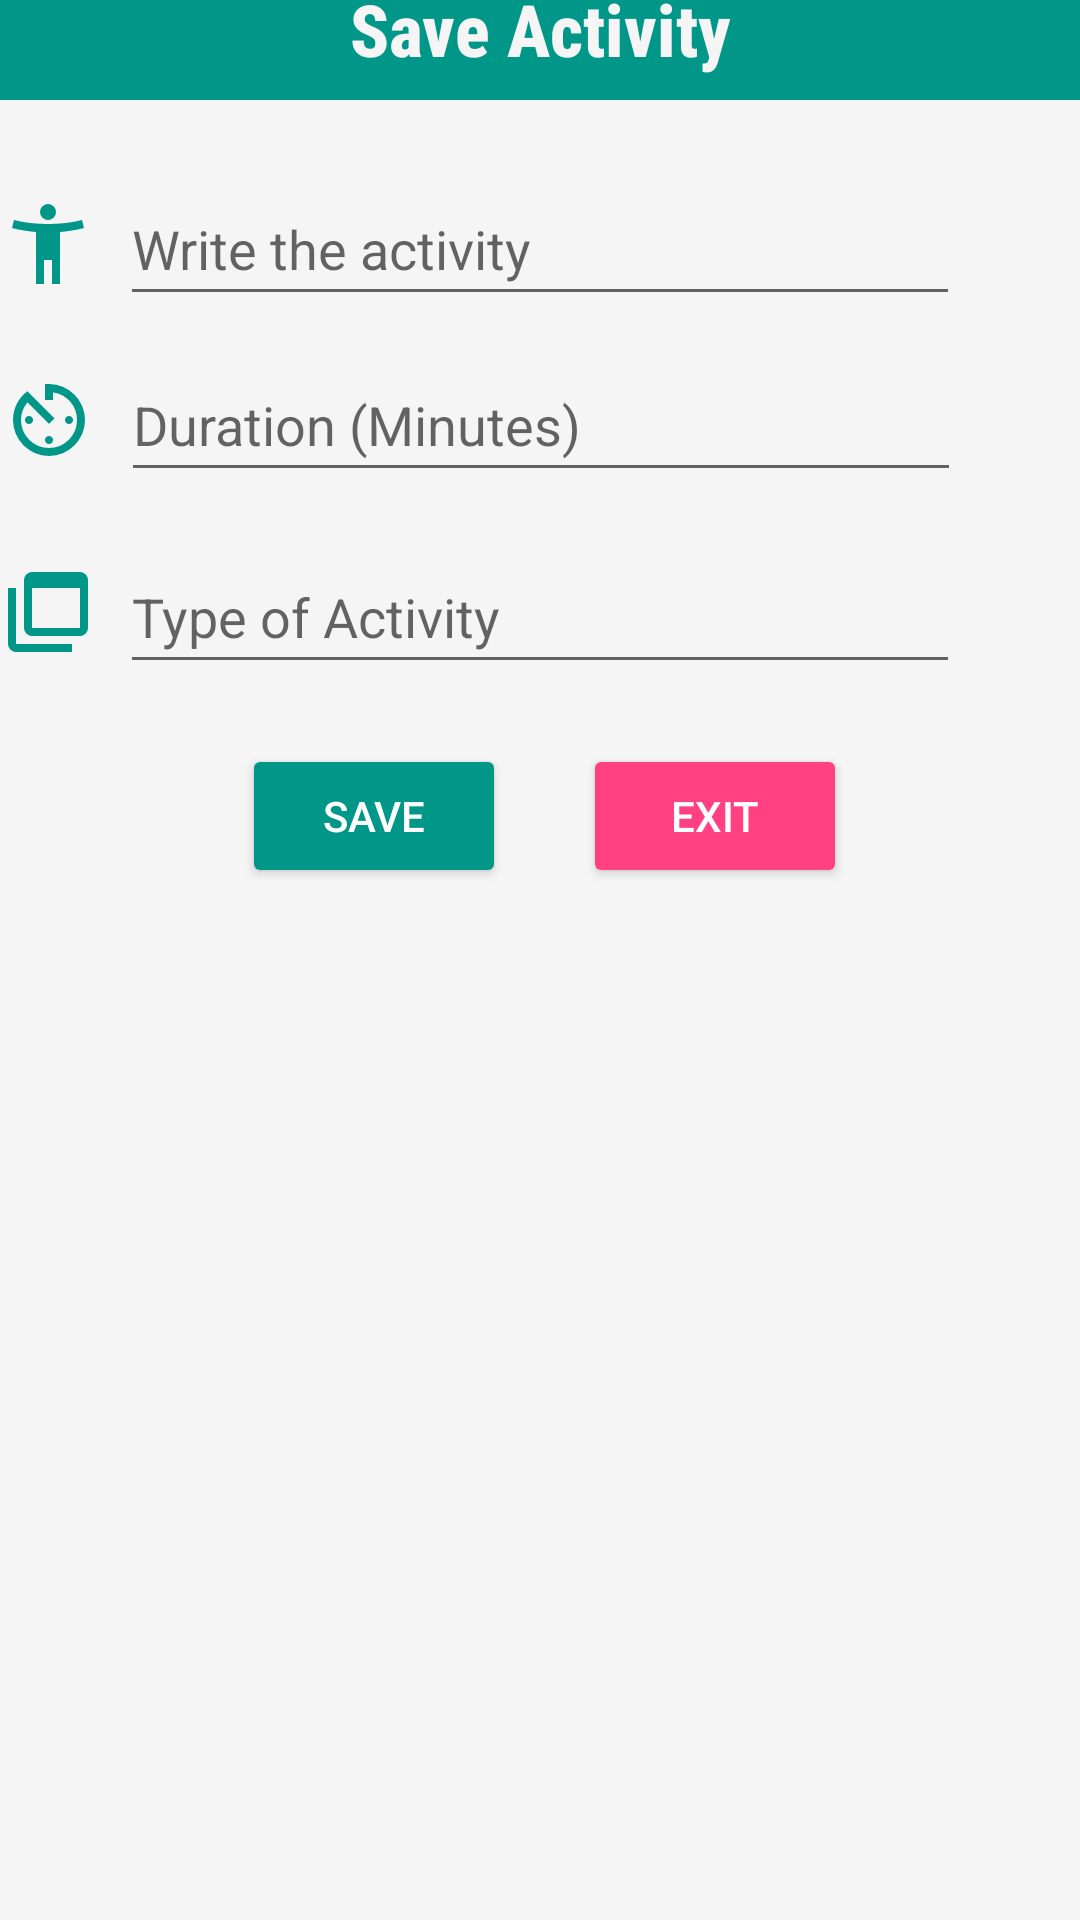

Icons on this 1080 x 1920 Android screen, each with the point to tap as (x=x, y=y):
accessibility: (x=48, y=244)
ad group: (x=48, y=612)
av timer: (x=49, y=420)
